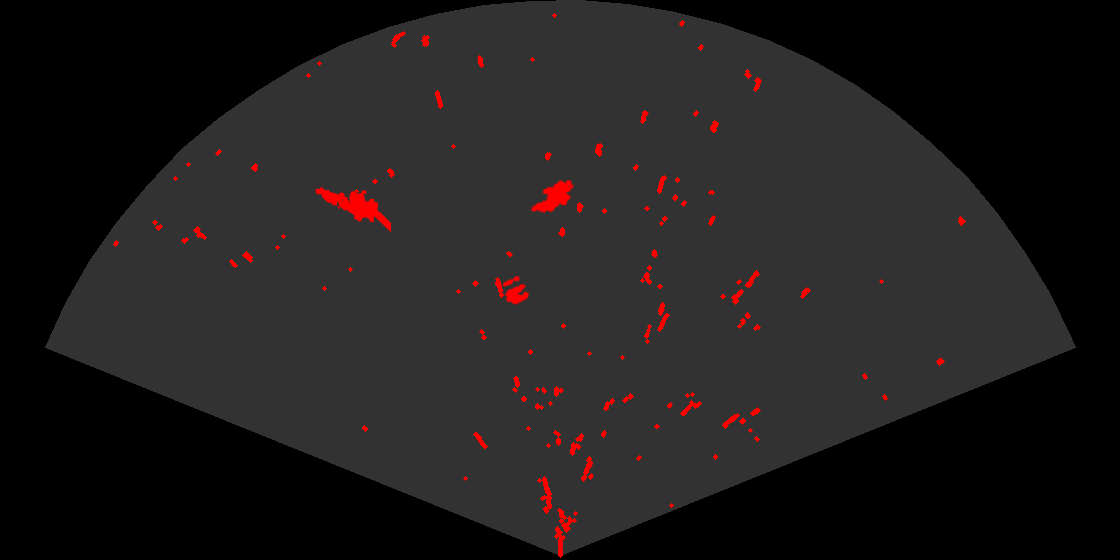AUV: (529, 178, 576, 215)
ball: (501, 274, 531, 307)
frogman: (314, 186, 391, 234)
